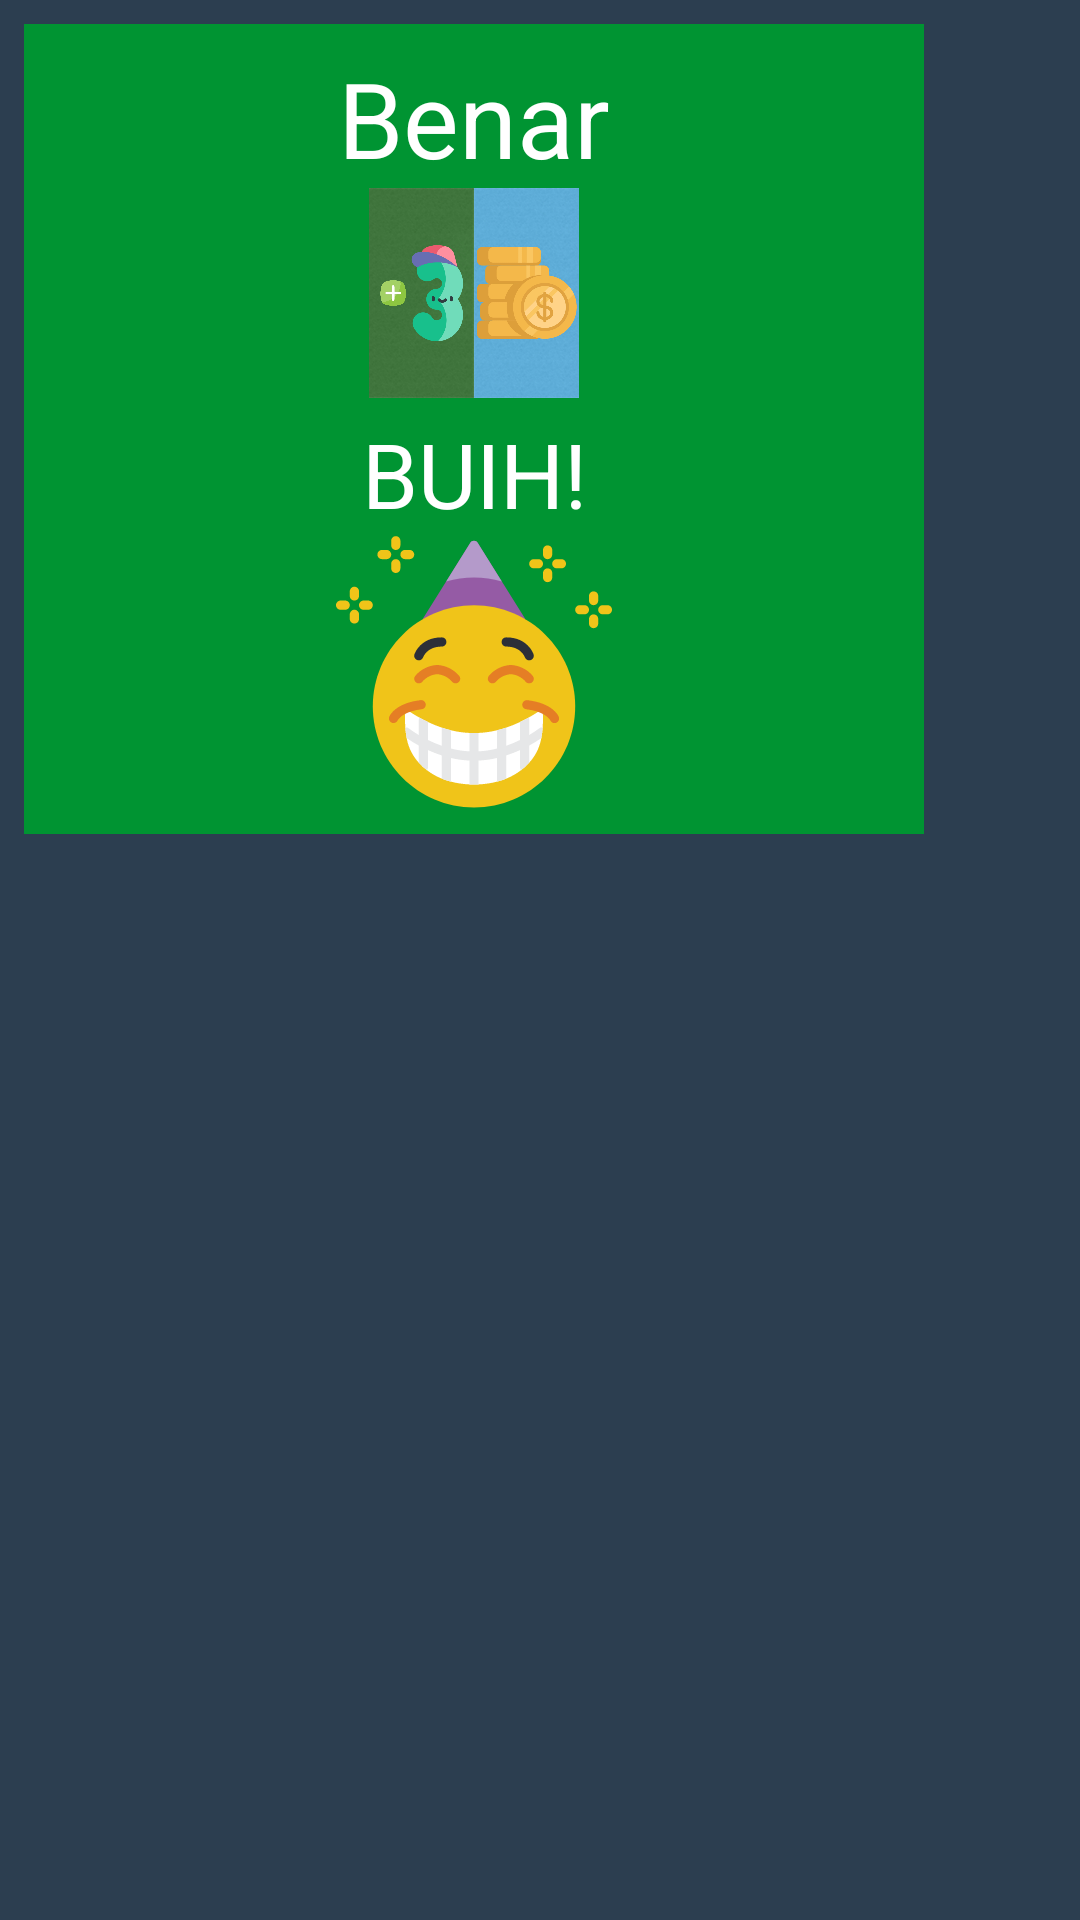

Named icons in this screenshot (1080x1920) and their bounding boxes, [x1=x1, y1=y1, x2=x2, y2=y2]:
party: [x1=336, y1=536, x2=612, y2=808]
point plus: [x1=369, y1=188, x2=579, y2=398]
